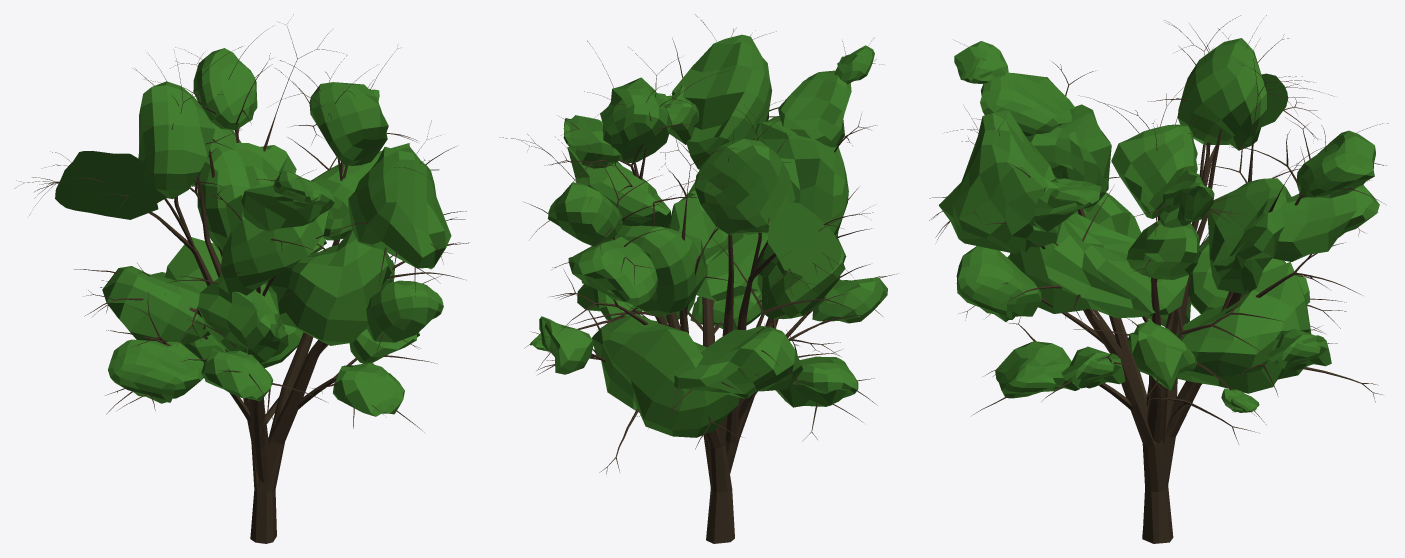
File: Tree_007.fbx
3 views of the same model, side by side, from view 1: azimuth 30°, elevation 25°; view 2: azimuth 150°, elevation 25°; view 3: azimuth 270°, elevation 25° (orthographic). The views are drawn at different scales.
Visible parts, largest first — view 1: Tree_007; view 2: Tree_007; view 3: Tree_007.
Part boxes in pixels (bbox=[...]): Tree_007: bbox=[14, 14, 468, 543]; Tree_007: bbox=[499, 14, 897, 543]; Tree_007: bbox=[929, 15, 1388, 543].
Size of the model in its own units: 890 by 1108 by 934.
